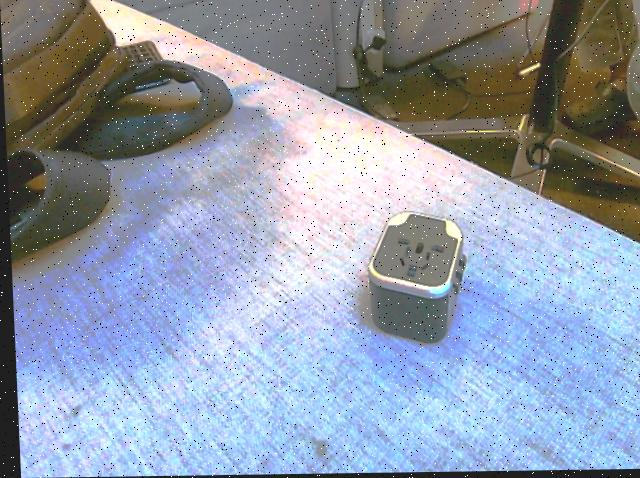adapter: (362, 211, 466, 345)
